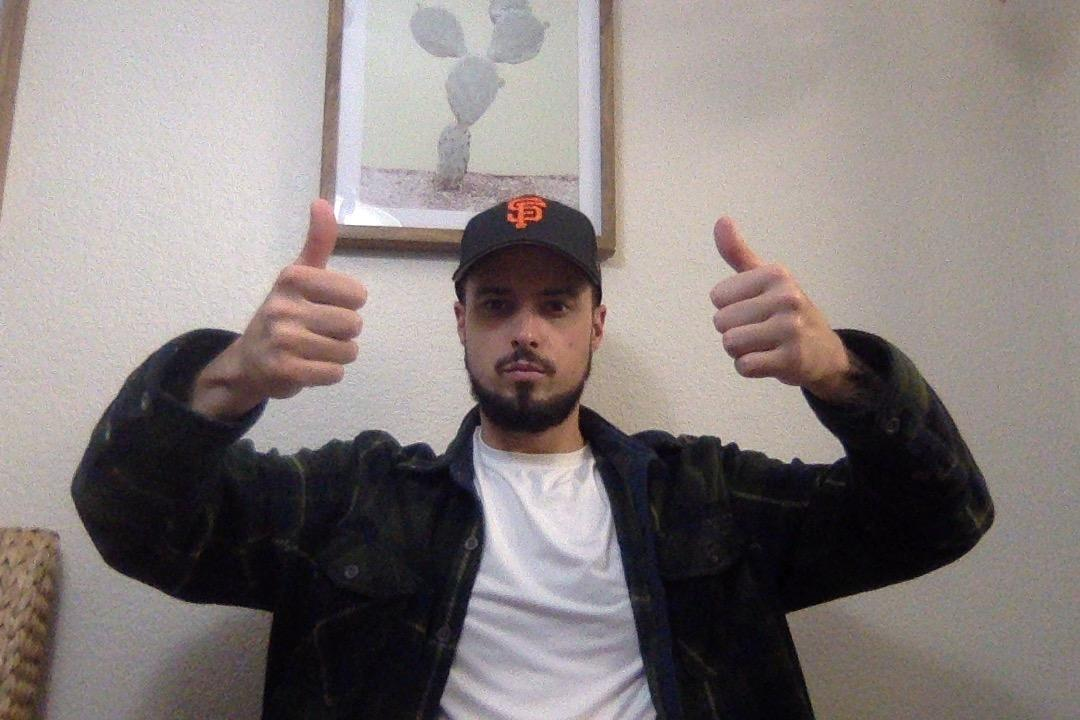Thumbs-Up: (678, 205, 861, 394), (222, 192, 373, 411)
